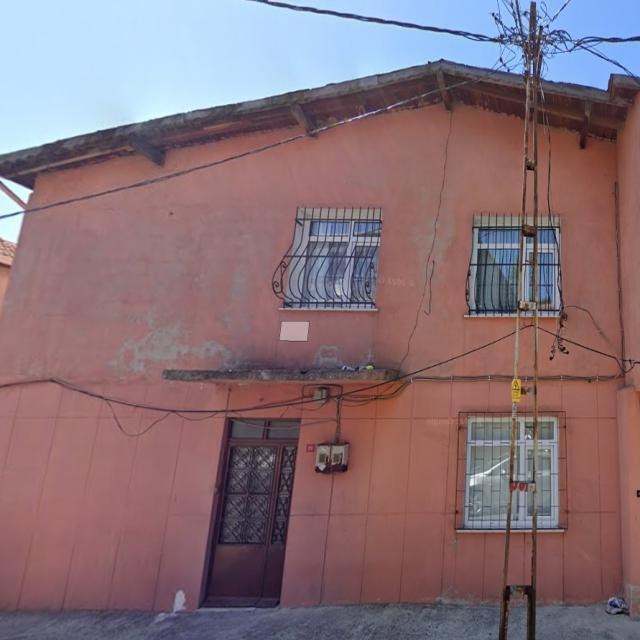Building: (0, 59, 640, 619)
